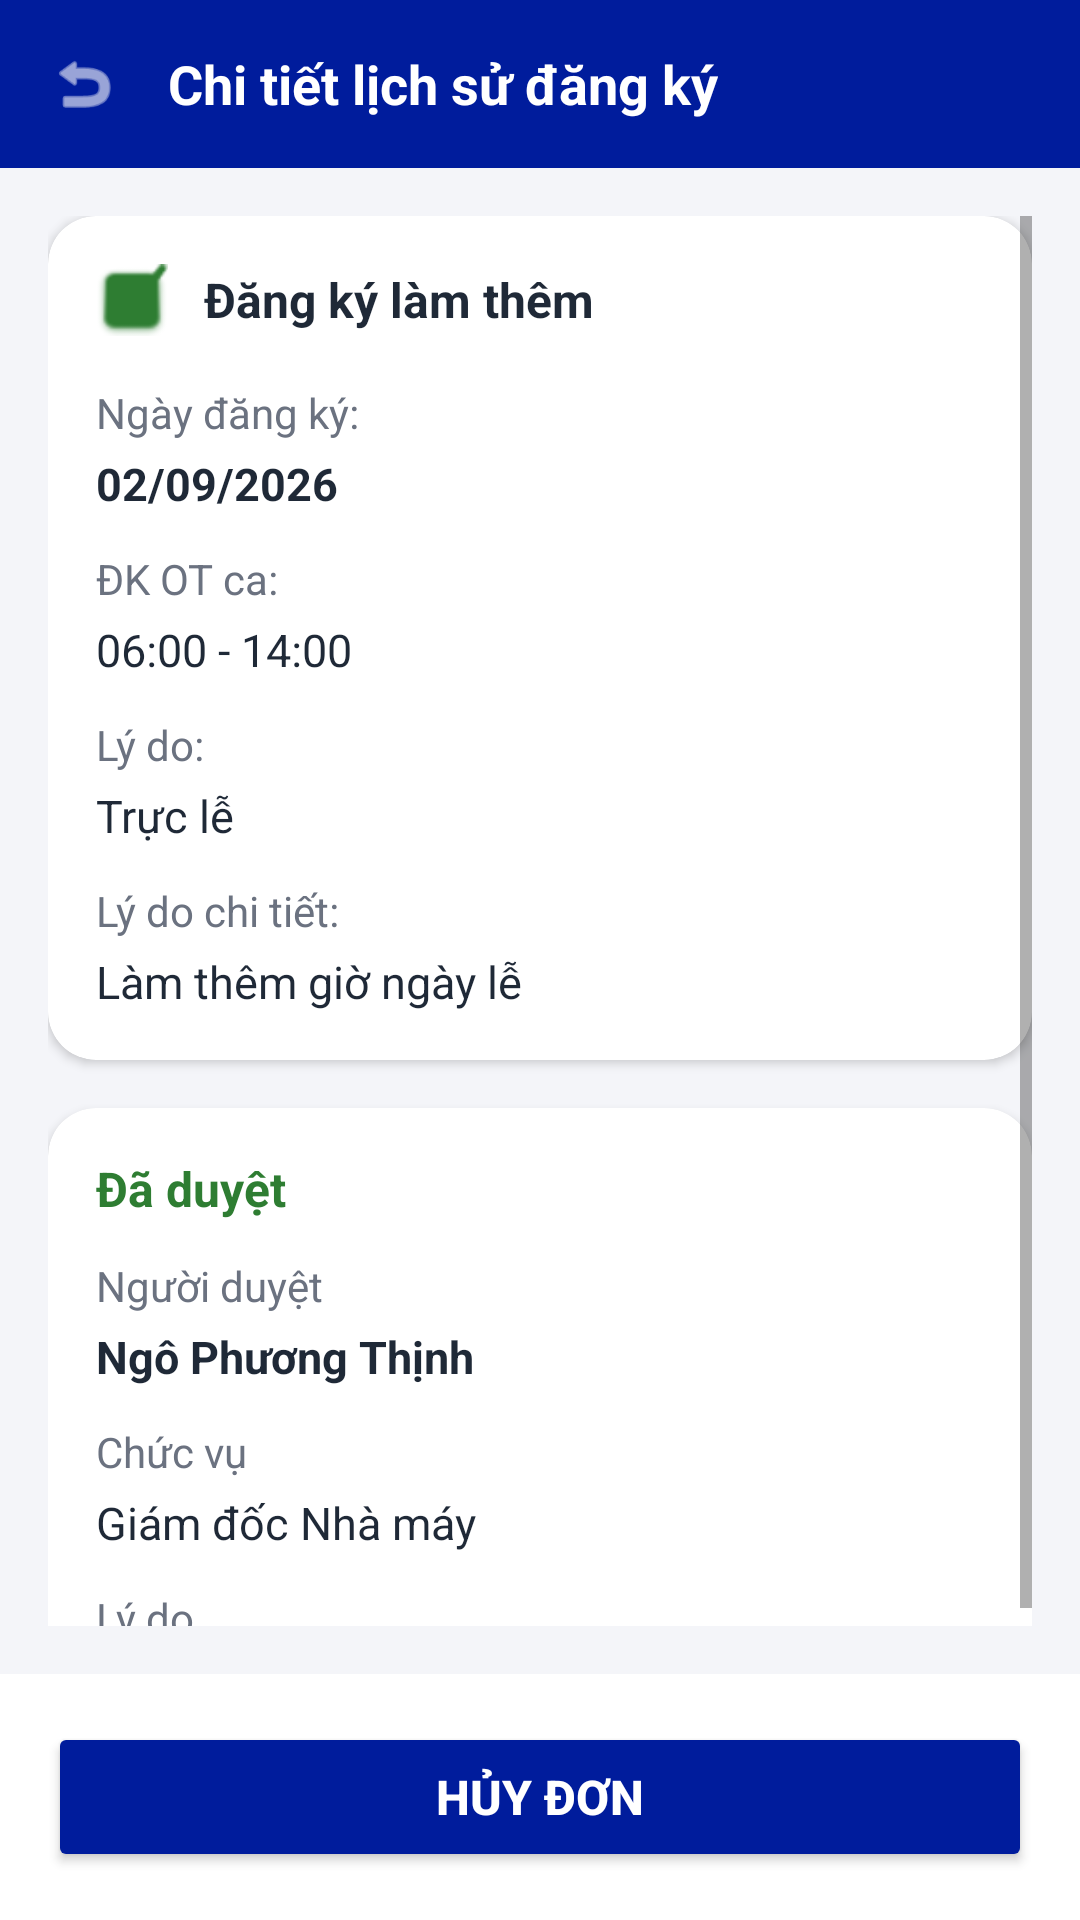

Named icons in this screenshot (1080px×1920px) and their bounding boxes, (x1, y1, x2, y2):
revert: (59, 61, 111, 108)
